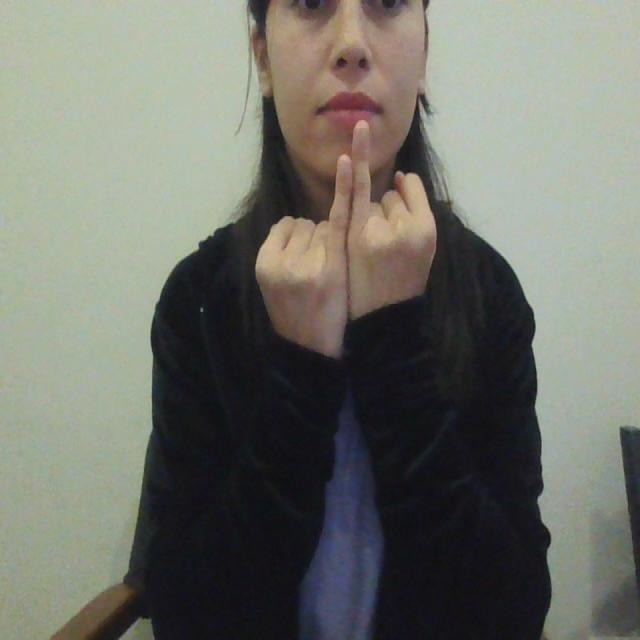Kardes: (252, 118, 441, 370)
